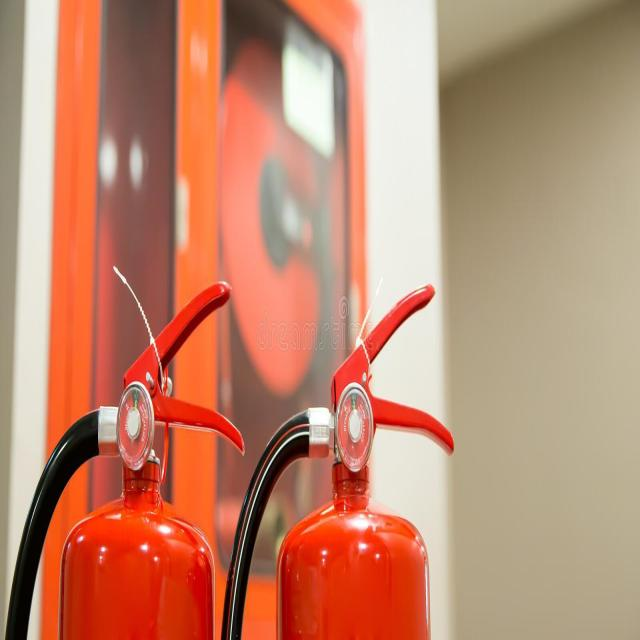fire_extinguisher: (2, 278, 248, 639), (218, 273, 458, 639)
